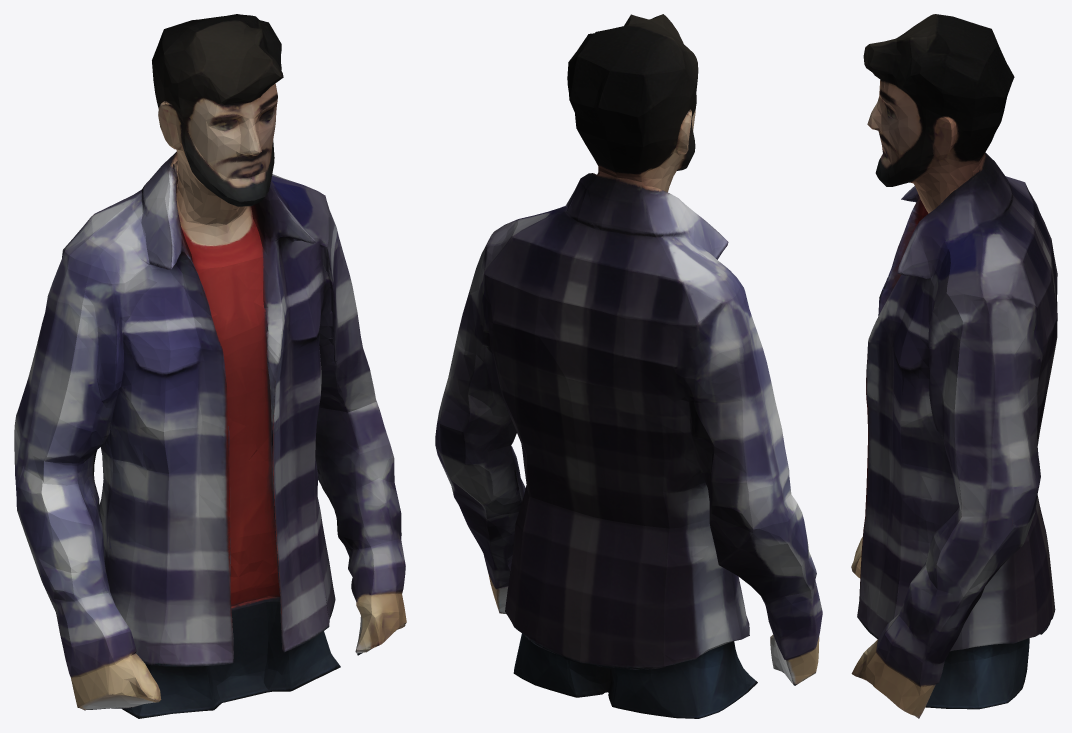
Rendered from _render.glb.
The picture shows the model from 3 angles, left to right: view 1: azimuth 30°, elevation 25°; view 2: azimuth 150°, elevation 25°; view 3: azimuth 270°, elevation 25°; orthographic projection. The views are drawn at different scales.
Parts seen in each view (by area): view 1: world; view 2: world; view 3: world.
Boxes of the visible parts, x1=… form: world: x1=14, y1=14, x2=406, y2=718; world: x1=435, y1=14, x2=822, y2=718; world: x1=851, y1=14, x2=1057, y2=718.
Size of the model in its own units: 0.5668 by 0.9981 by 0.2936.
1 material, 1 textured.
